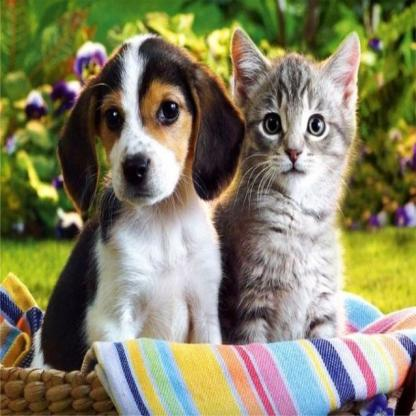cat: (231, 23, 389, 229)
dog: (58, 23, 228, 245)
